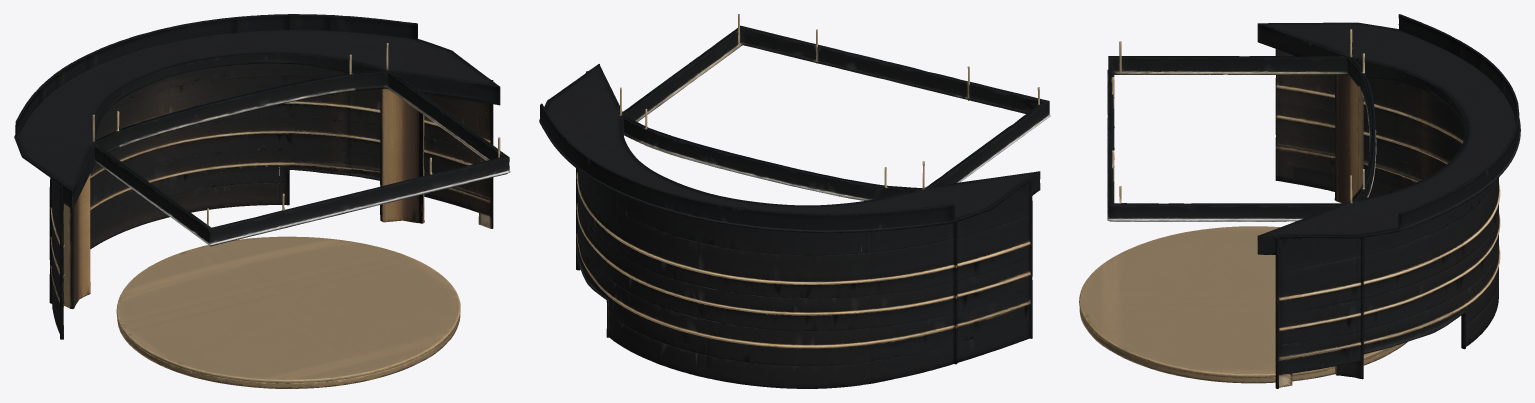
File: circular stage platform 3d model.glb
The picture shows the model from 3 angles, left to right: view 1: azimuth 30°, elevation 25°; view 2: azimuth 150°, elevation 25°; view 3: azimuth 270°, elevation 25°; orthographic projection. The views are drawn at different scales.
Visible parts, largest first — view 1: tripo_node_9c239414-db78-4e8c-b370-50ce7d6015a7; view 2: tripo_node_9c239414-db78-4e8c-b370-50ce7d6015a7; view 3: tripo_node_9c239414-db78-4e8c-b370-50ce7d6015a7.
Boxes of the visible parts, x1,y1,x2,y2 form: tripo_node_9c239414-db78-4e8c-b370-50ce7d6015a7: (14,14,510,388); tripo_node_9c239414-db78-4e8c-b370-50ce7d6015a7: (539,14,1050,388); tripo_node_9c239414-db78-4e8c-b370-50ce7d6015a7: (1079,14,1520,388).
Size of the model in its own units: 0.9803 by 0.4539 by 0.8499.
Materials: 1 (1 with a texture image).
